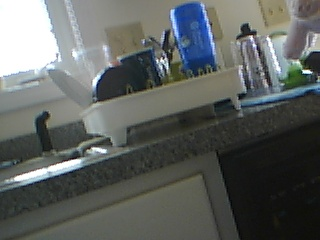piggy: (281, 1, 319, 62)
